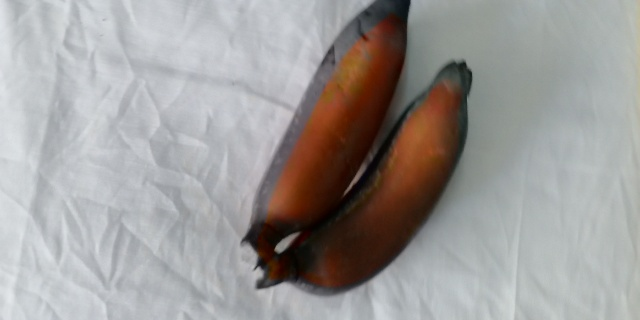banana_red: (268, 64, 466, 298), (247, 16, 409, 247)
